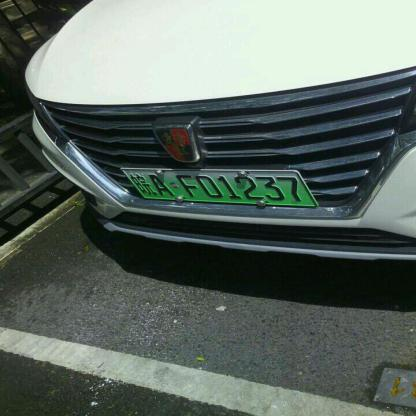lp: (121, 168, 317, 204)
